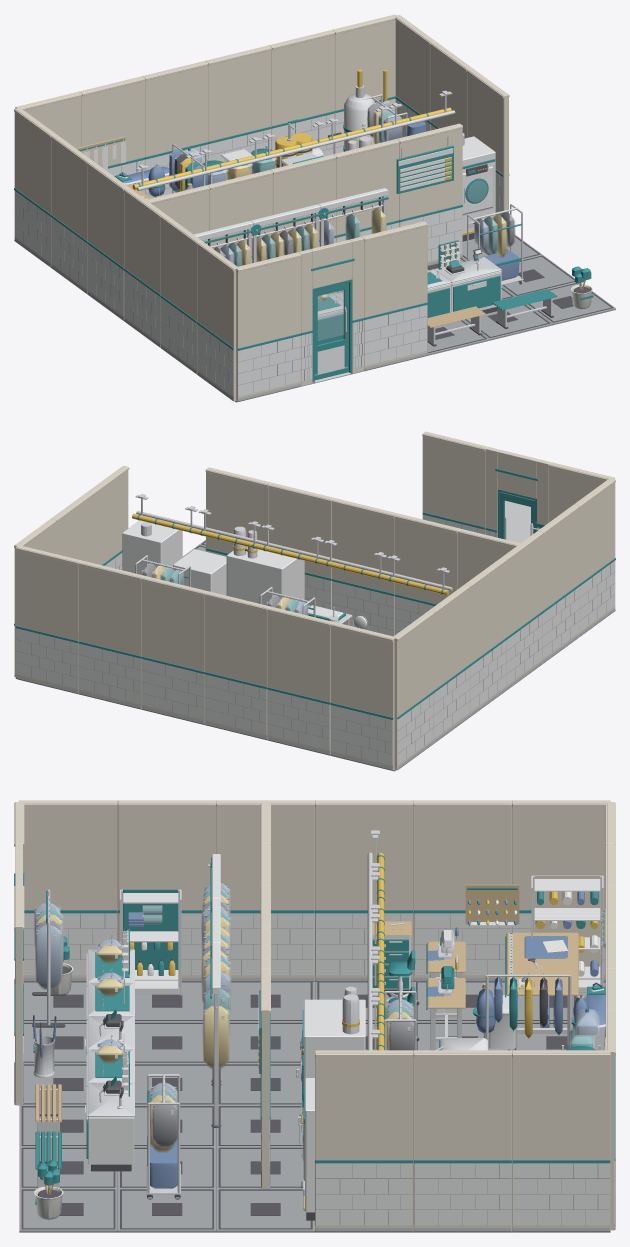
The model's file is dry-cleaners-and-alterations-shop-dry-cl-88a6d14a-starter-scene__34981.glb.
3 renders of one model, top to bottom at view 1: azimuth 30°, elevation 25°; view 2: azimuth 150°, elevation 25°; view 3: azimuth 270°, elevation 25°, orthographic. The views are drawn at different scales.
Visible parts, largest first — view 1: 036-shop-wall-panel-module/0, 038-shop-wall-panel-module/0, 048-shop-wall-panel-module/0, 047-shop-wall-panel-module/0, 046-shop-wall-panel-module/0, 045-shop-wall-panel-module/0, 049-shop-wall-panel-module/0, 042-shop-wall-panel-module/0, 037-shop-door-module/0, 050-shop-wall-panel-module/0, 041-shop-wall-panel-module/0, 043-shop-wall-panel-module/0 (+58 smaller); view 2: 044-shop-wall-panel-module/0, 045-shop-wall-panel-module/0, 046-shop-wall-panel-module/0, 048-shop-wall-panel-module/0, 049-shop-wall-panel-module/0, 047-shop-wall-panel-module/0, 038-shop-wall-panel-module/0, 041-shop-wall-panel-module/0, 040-shop-wall-panel-module/0, 042-shop-wall-panel-module/0, 043-shop-wall-panel-module/0, 055-shop-wall-panel-module/0 (+40 smaller); view 3: 057-shop-wall-panel-module/0, 056-shop-wall-panel-module/0, 058-shop-wall-panel-module/0, 053-shop-wall-panel-module/0, 050-shop-wall-panel-module/0, 054-shop-wall-panel-module/0, 052-shop-wall-panel-module/0, 051-shop-wall-panel-module/0, 055-shop-wall-panel-module/0, 056-shop-wall-panel-module/1, 057-shop-wall-panel-module/1, 058-shop-wall-panel-module/1 (+93 smaller).
Part boxes in pixels (left/top/right/bottom): 036-shop-wall-panel-module/0: left=236, top=252, right=301, bottom=401; 038-shop-wall-panel-module/0: left=362, top=221, right=427, bottom=370; 048-shop-wall-panel-module/0: left=269, top=30, right=334, bottom=159; 047-shop-wall-panel-module/0: left=206, top=45, right=271, bottom=159; 046-shop-wall-panel-module/0: left=142, top=60, right=208, bottom=193; 045-shop-wall-panel-module/0: left=79, top=76, right=145, bottom=193; 049-shop-wall-panel-module/0: left=332, top=14, right=397, bottom=133; 042-shop-wall-panel-module/0: left=333, top=139, right=399, bottom=242; 037-shop-door-module/0: left=298, top=236, right=364, bottom=386; 050-shop-wall-panel-module/0: left=196, top=241, right=237, bottom=401; 041-shop-wall-panel-module/0: left=270, top=154, right=336, bottom=242; 043-shop-wall-panel-module/0: left=397, top=123, right=462, bottom=263; 044-shop-wall-panel-module/0: left=330, top=622, right=395, bottom=770; 045-shop-wall-panel-module/0: left=267, top=606, right=332, bottom=755; 046-shop-wall-panel-module/0: left=204, top=591, right=269, bottom=739; 048-shop-wall-panel-module/0: left=78, top=560, right=143, bottom=708; 049-shop-wall-panel-module/0: left=15, top=545, right=80, bottom=693; 047-shop-wall-panel-module/0: left=141, top=575, right=206, bottom=724; 038-shop-wall-panel-module/0: left=422, top=431, right=487, bottom=534; 041-shop-wall-panel-module/0: left=331, top=498, right=396, bottom=635; 040-shop-wall-panel-module/0: left=394, top=513, right=459, bottom=635; 042-shop-wall-panel-module/0: left=268, top=482, right=333, bottom=609; 043-shop-wall-panel-module/0: left=205, top=467, right=271, bottom=553; 055-shop-wall-panel-module/0: left=393, top=611, right=434, bottom=769; 057-shop-wall-panel-module/0: left=413, top=1050, right=512, bottom=1231; 056-shop-wall-panel-module/0: left=315, top=1050, right=413, bottom=1231; 058-shop-wall-panel-module/0: left=512, top=1050, right=610, bottom=1231; 053-shop-wall-panel-module/0: left=315, top=800, right=413, bottom=981; 050-shop-wall-panel-module/0: left=19, top=800, right=117, bottom=977; 054-shop-wall-panel-module/0: left=413, top=800, right=512, bottom=981; 052-shop-wall-panel-module/0: left=216, top=800, right=314, bottom=981; 051-shop-wall-panel-module/0: left=117, top=800, right=216, bottom=977; 055-shop-wall-panel-module/0: left=512, top=800, right=610, bottom=977; 056-shop-wall-panel-module/1: left=315, top=1163, right=412, bottom=1225; 057-shop-wall-panel-module/1: left=414, top=1163, right=511, bottom=1225; 058-shop-wall-panel-module/1: left=513, top=1163, right=609, bottom=1225.
Size of the model in its own units: 9.16 by 3.04 by 9.16.
